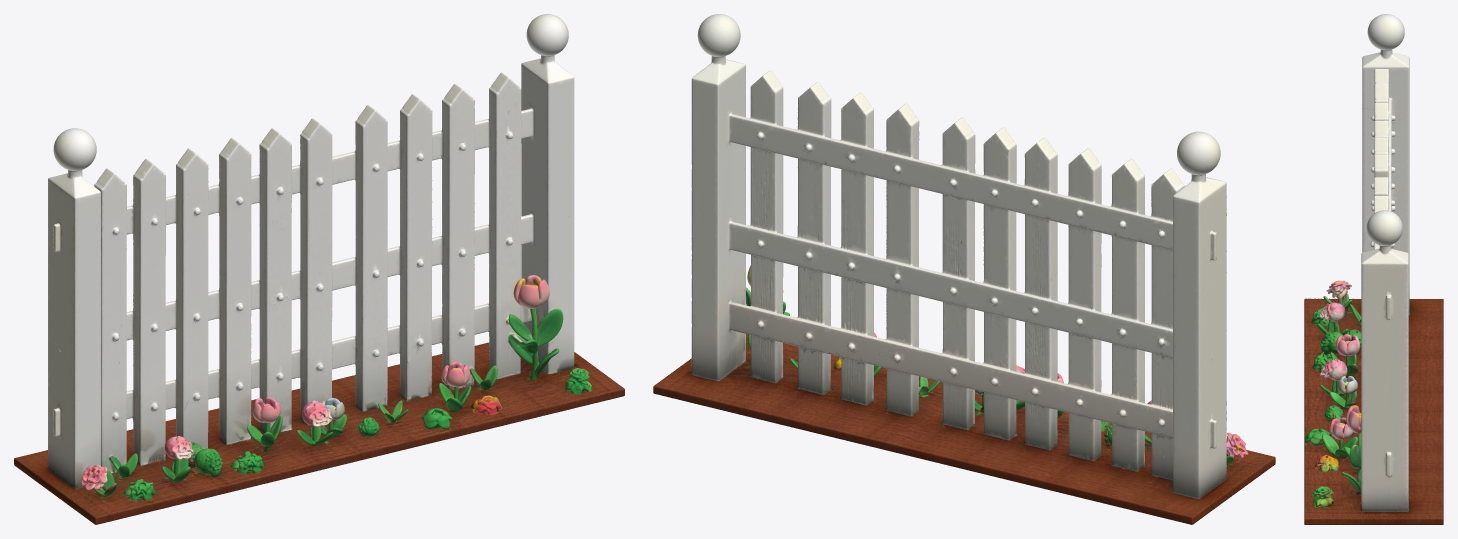
The model's file is garden_fence.glb.
3 views of the same model, side by side, from view 1: azimuth 30°, elevation 25°; view 2: azimuth 150°, elevation 25°; view 3: azimuth 270°, elevation 25° (orthographic). The views are drawn at different scales.
Size of the model in its own units: 1.9 by 1.21 by 0.5088.
1 material, 1 textured.
